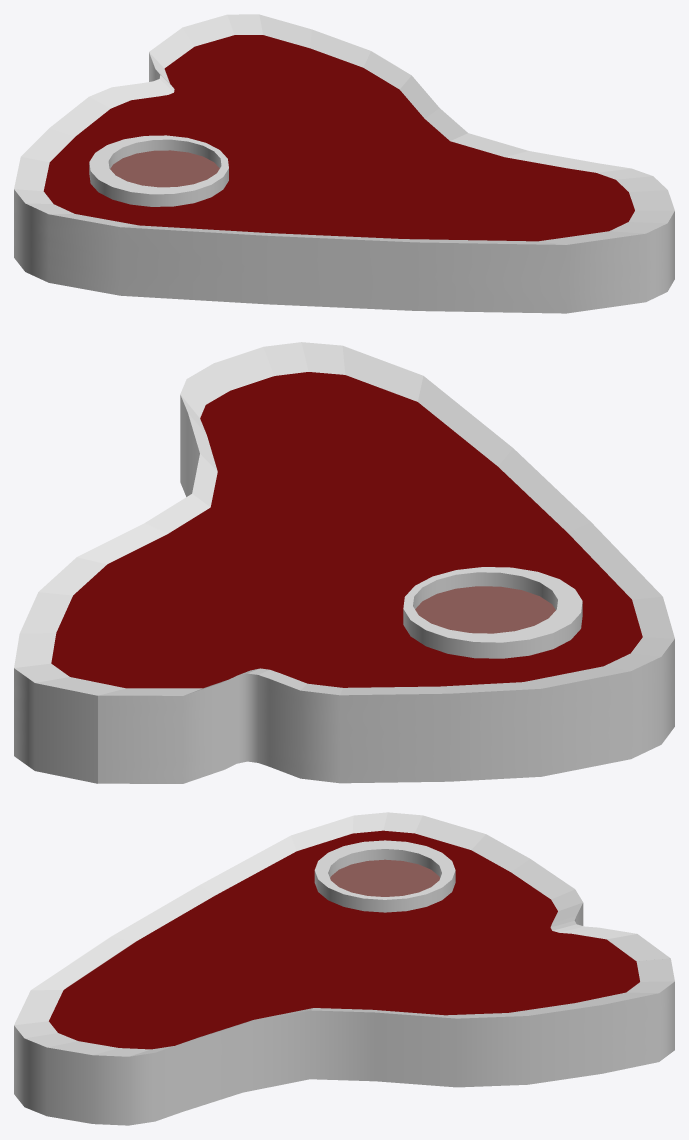
Rendered from steak.fbx.
3 renders of one model, top to bottom at view 1: azimuth 30°, elevation 25°; view 2: azimuth 150°, elevation 25°; view 3: azimuth 270°, elevation 25°, orthographic. The views are drawn at different scales.
Parts seen in each view (by area): view 1: nurbsToPoly1, pCylinder2; view 2: nurbsToPoly1, pCylinder2; view 3: nurbsToPoly1, pCylinder2.
Part boxes in pixels (bbox=[...]): nurbsToPoly1: bbox=[14, 14, 674, 313]; pCylinder2: bbox=[89, 135, 228, 206]; nurbsToPoly1: bbox=[14, 342, 674, 783]; pCylinder2: bbox=[403, 567, 582, 658]; nurbsToPoly1: bbox=[14, 812, 674, 1125]; pCylinder2: bbox=[314, 840, 455, 912].
Bounding box in the file's own units: 5.49 × 0.7964 × 6.28.
